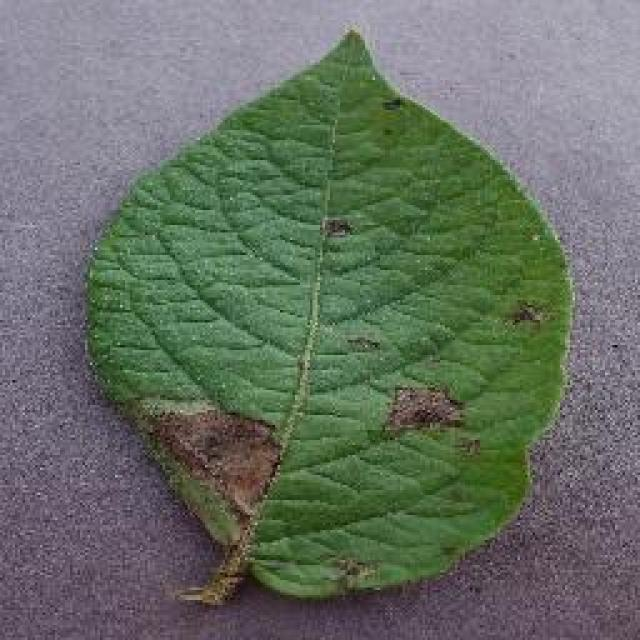Potato: (83, 25, 575, 605)
